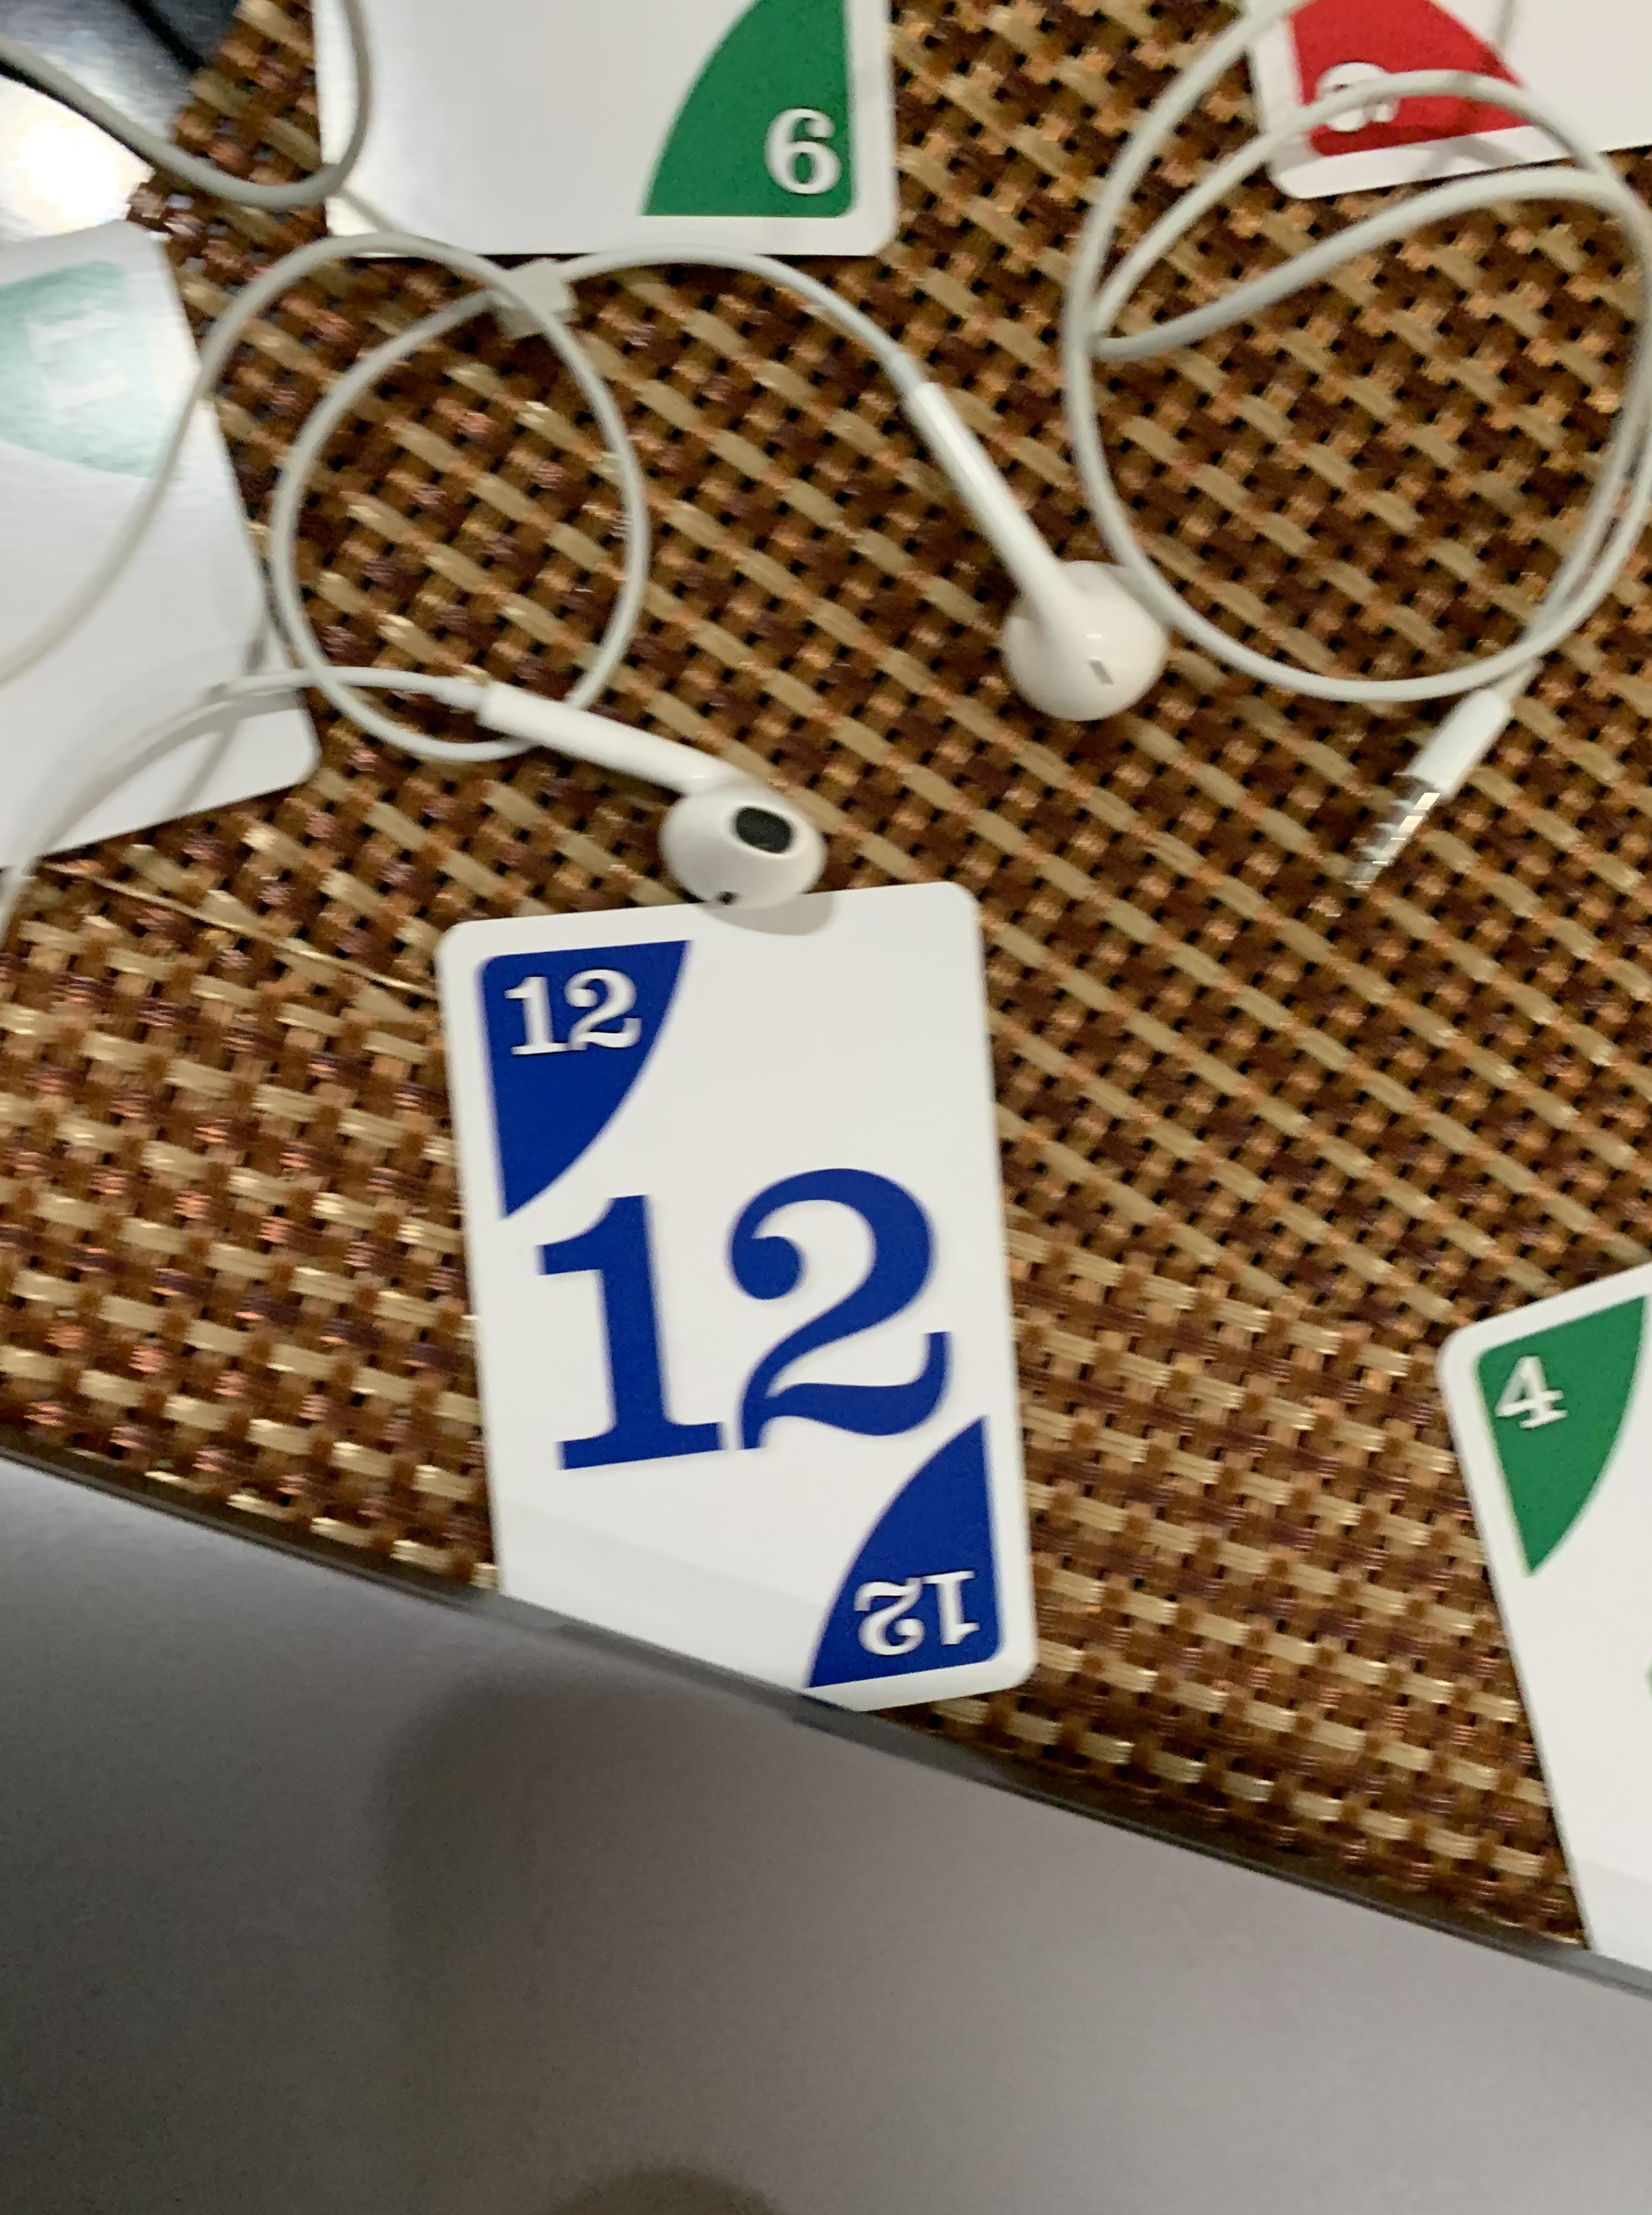twelve: (399, 863, 1060, 1755)
